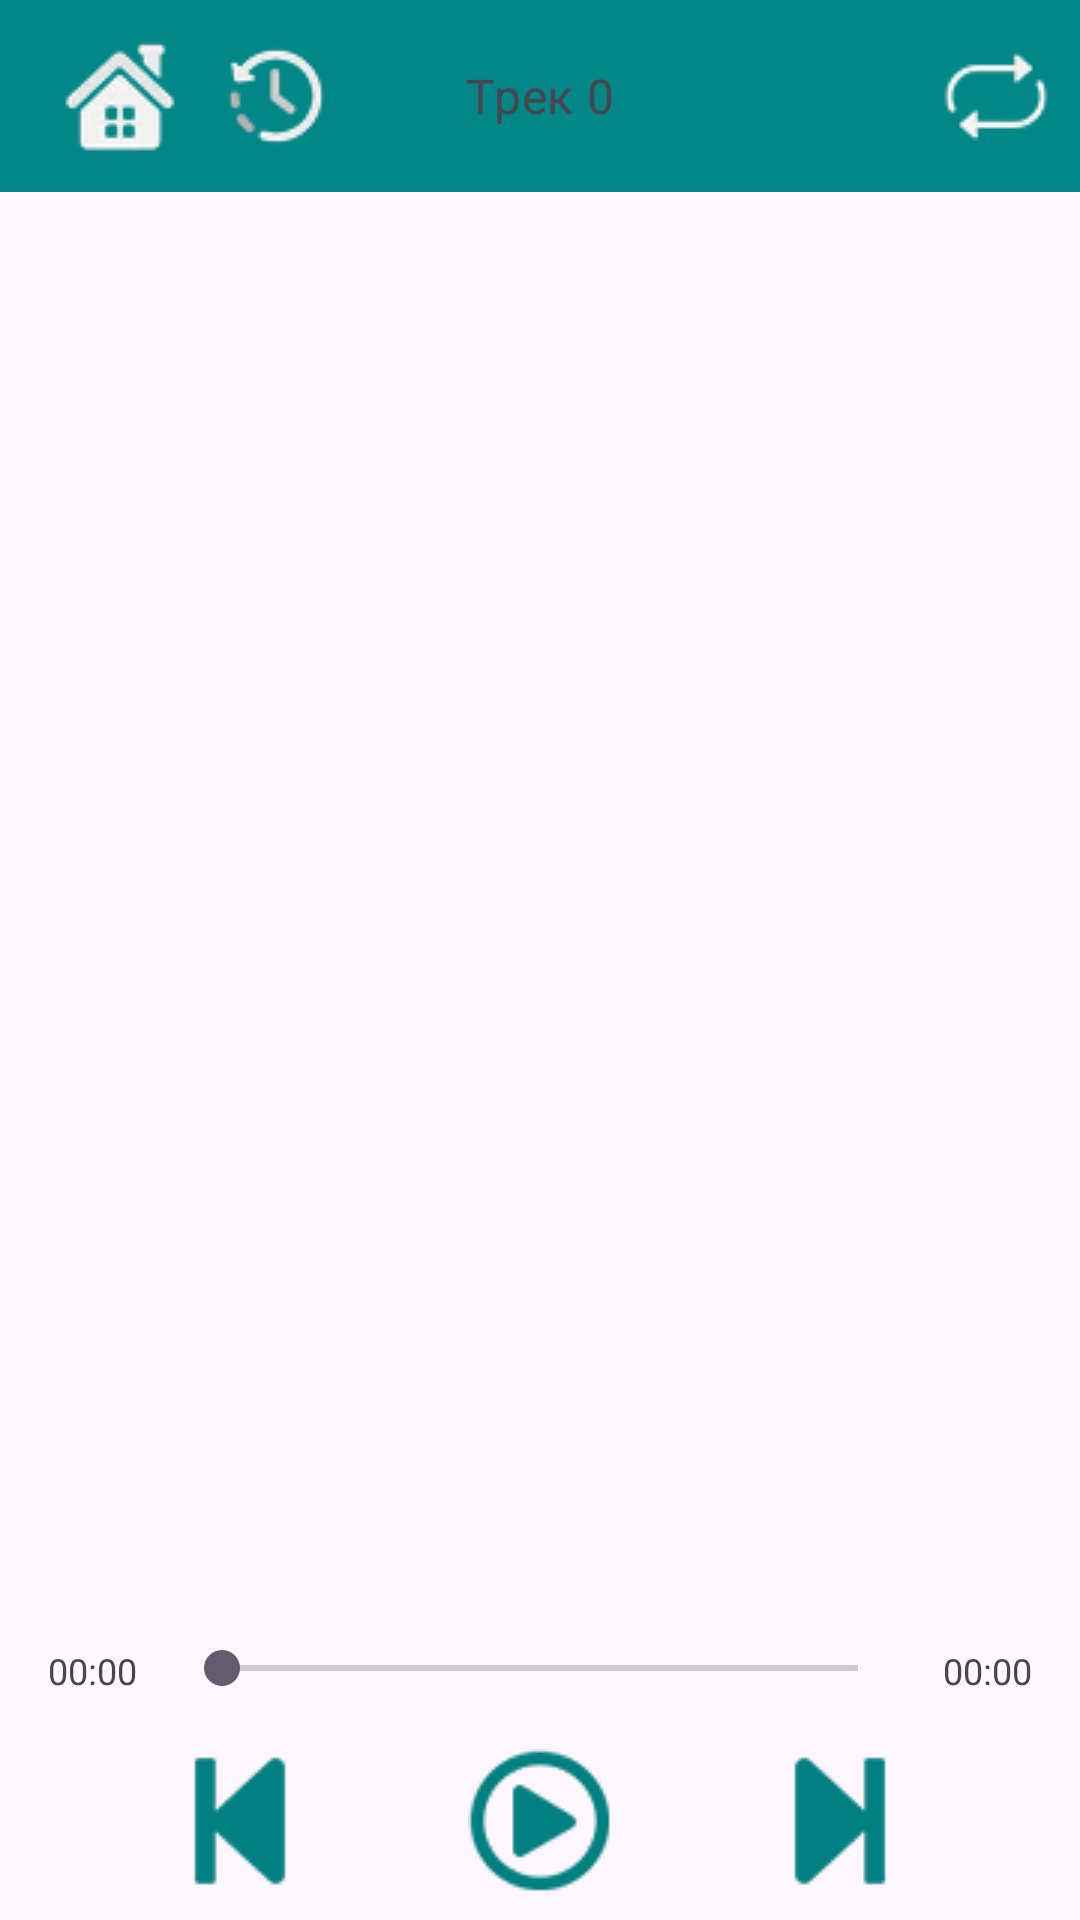

Icon bounding boxes for this 1080 × 1920 phone screenshot, format Rect(x1, y1, x2, y2):
Воспроизведение / Пауза: Rect(468, 1749, 610, 1891)
Домой: Rect(65, 42, 175, 151)
Журнал: Rect(229, 48, 323, 143)
Предыдущий: Rect(194, 1757, 286, 1885)
Следующий: Rect(794, 1757, 886, 1885)
